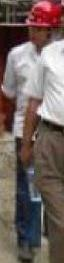boots: (17, 241, 34, 263), (0, 245, 16, 262)
hard-hat: (0, 7, 19, 35)
